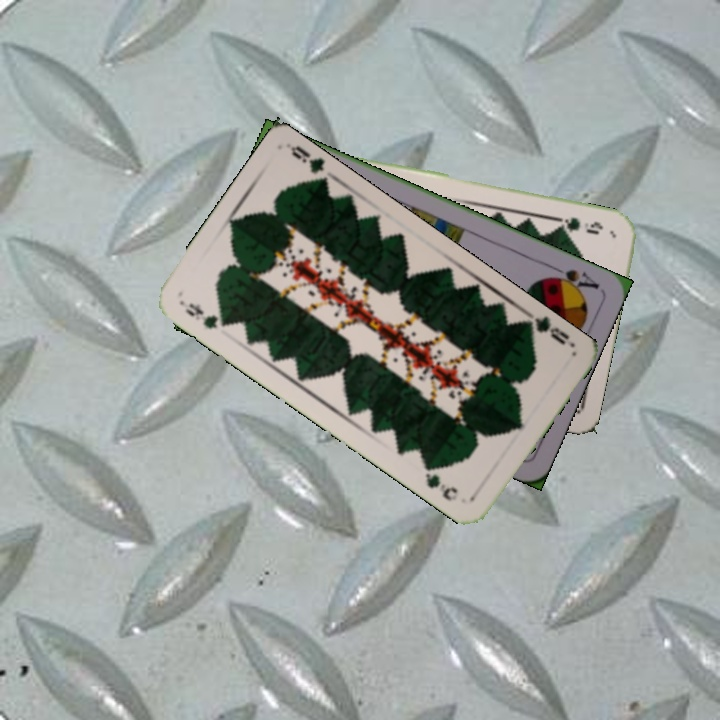G9: (520, 308, 572, 348), (181, 298, 232, 332), (552, 213, 606, 238)
SA: (541, 260, 602, 295)
